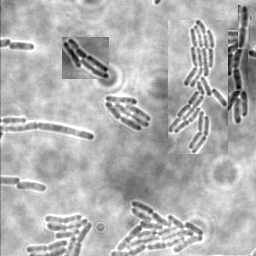Dividing: (1, 123, 95, 142), (238, 5, 250, 49), (8, 41, 35, 52)
Microcolony: (168, 20, 228, 154), (109, 200, 205, 255), (25, 212, 94, 255), (212, 30, 248, 91), (62, 37, 109, 79), (103, 96, 150, 132), (16, 182, 48, 193)
